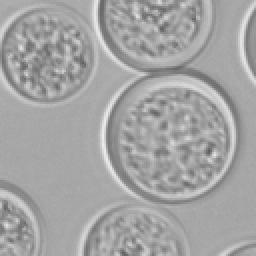picoshell: (100, 68, 234, 202), (0, 4, 96, 106), (92, 0, 214, 72), (76, 200, 188, 254), (0, 180, 44, 254), (0, 180, 42, 254), (238, 0, 254, 84), (216, 238, 254, 254)
